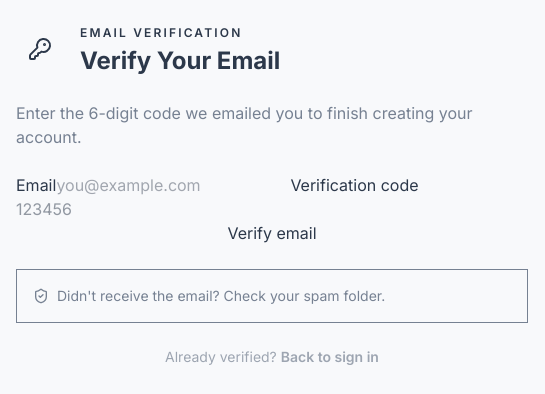
it: VerifyPage › shows an error message for an invalid code
The width and height of the screenshot is (545, 394).
In the field with test id "verify-email": (173,185) [56, 173, 290, 197], type "juan@example.com"
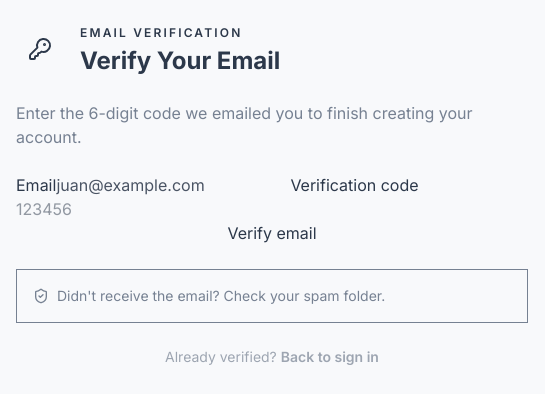
In the field with test id "verify-code": (133,209) [16, 197, 250, 221], type "000000"
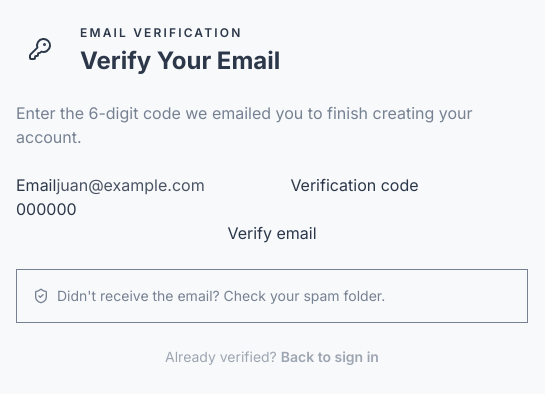
Click the button with test id "verify-submit": (272,233) [16, 221, 528, 245]
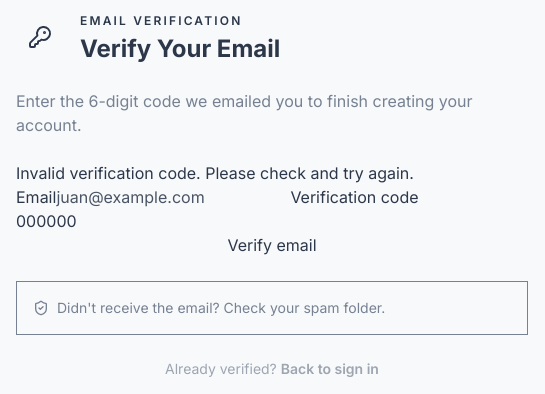
Expected: the message with test id "verify-error" reads "Invalid verification code. Please check and try again.", [16, 163, 414, 183]
